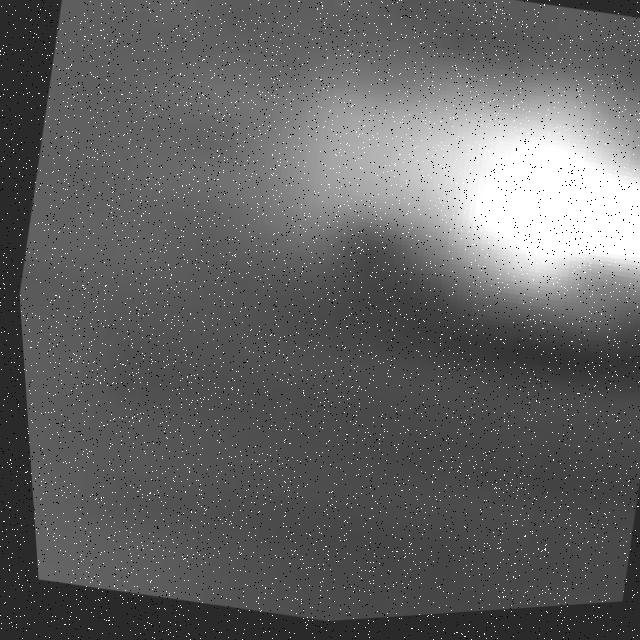person: (213, 24, 640, 381)
